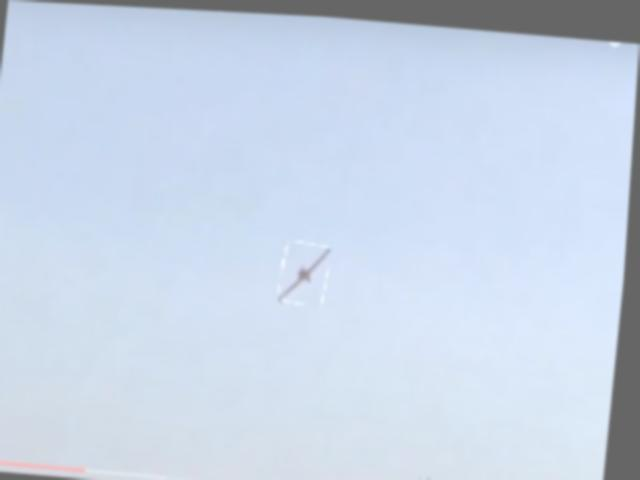insansiz-hava-araci: (282, 238, 334, 304)
